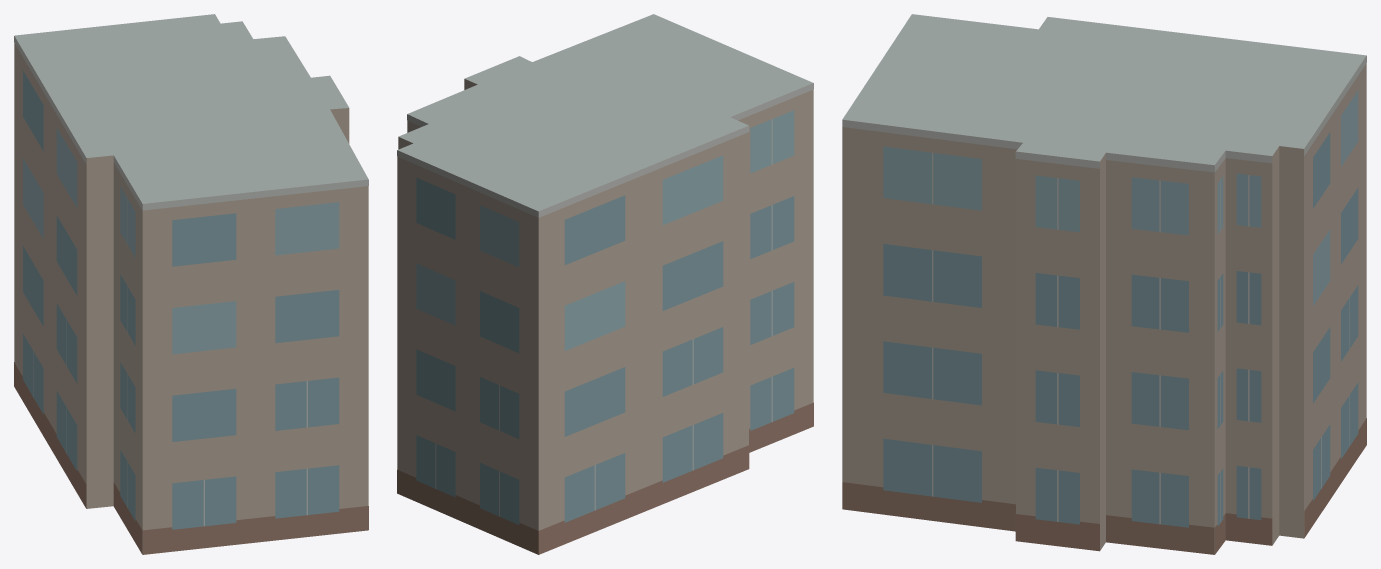
Rendered from survey-upis-32968227.glb.
The picture shows the model from 3 angles, left to right: view 1: azimuth 30°, elevation 25°; view 2: azimuth 150°, elevation 25°; view 3: azimuth 270°, elevation 25°; orthographic projection. The views are drawn at different scales.
Parts seen in each view (by area): view 1: survey-upis-32968227.tmp; view 2: survey-upis-32968227.tmp; view 3: survey-upis-32968227.tmp.
Boxes of the visible parts, x1,y1,x2,y2 form: survey-upis-32968227.tmp: (14, 14, 368, 554); survey-upis-32968227.tmp: (397, 14, 813, 554); survey-upis-32968227.tmp: (842, 14, 1366, 554).
Size of the model in its own units: 10.88 by 13.06 by 15.94.
